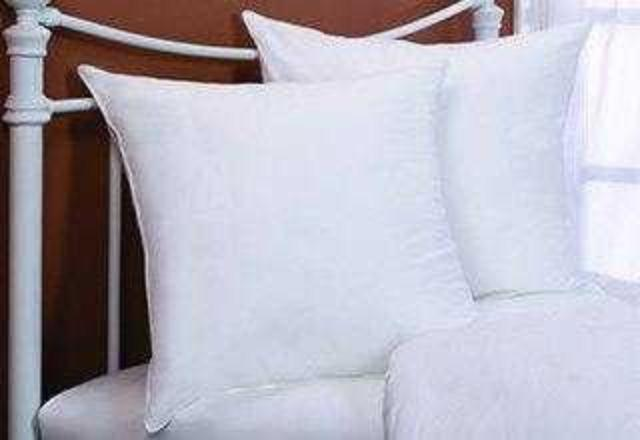pillow: (76, 60, 476, 436), (240, 4, 594, 300)
